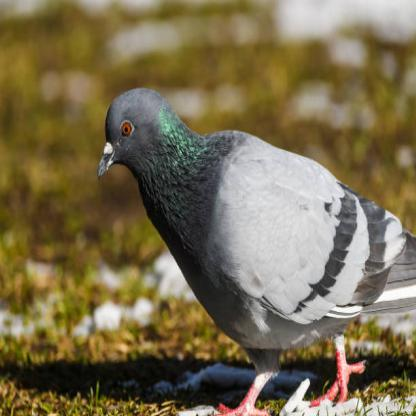Flying Rat: (99, 84, 411, 416)
